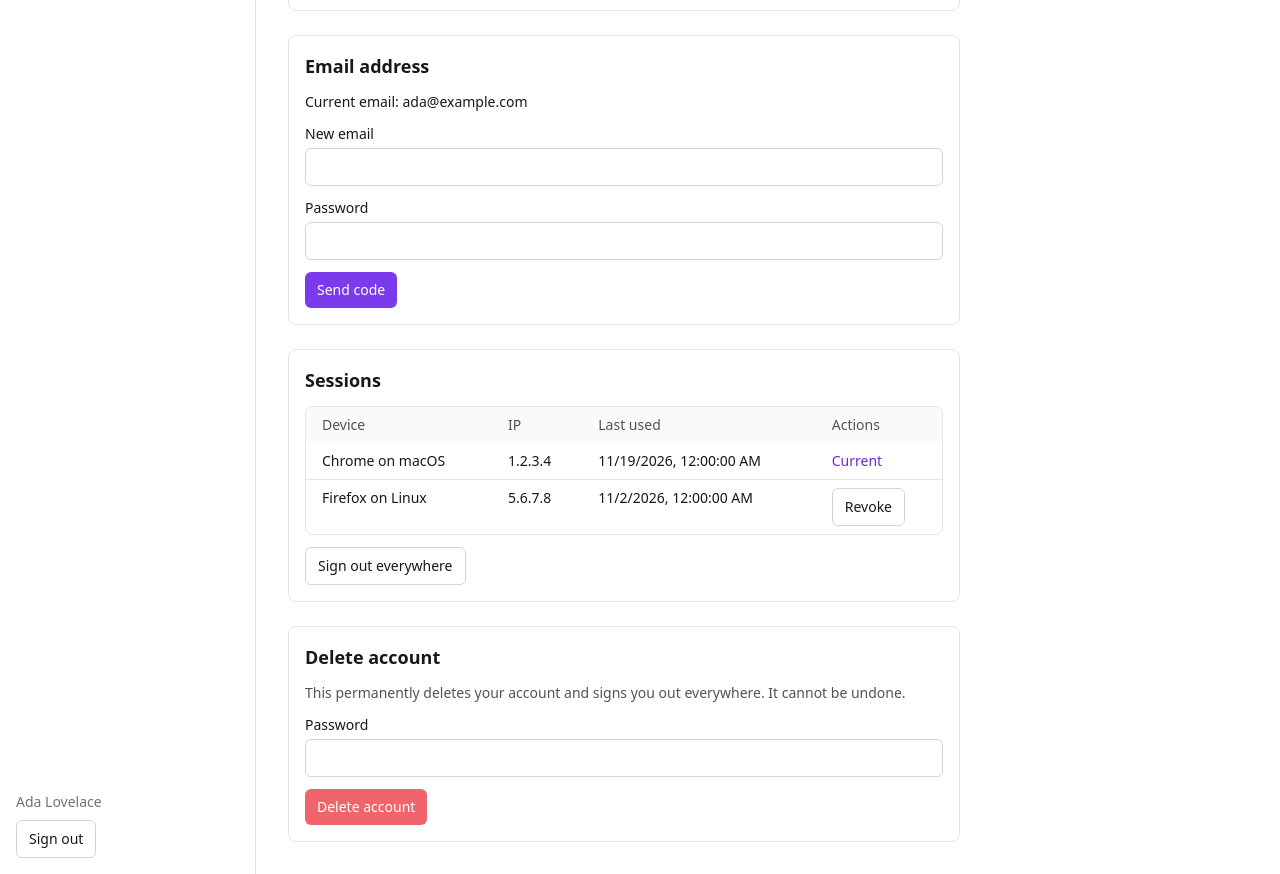
account › revoking a session removes it; current session has no revoke button
(page scrolled)
Expected: the text "Chrome on macOS" is shown, [322, 451, 445, 470]
Expected: the text "Current" is shown, [832, 451, 882, 470]
Click the button with aria-label "Revoke Firefox on Linux" at point(868, 507), box [832, 488, 905, 526]
(page scrolled)
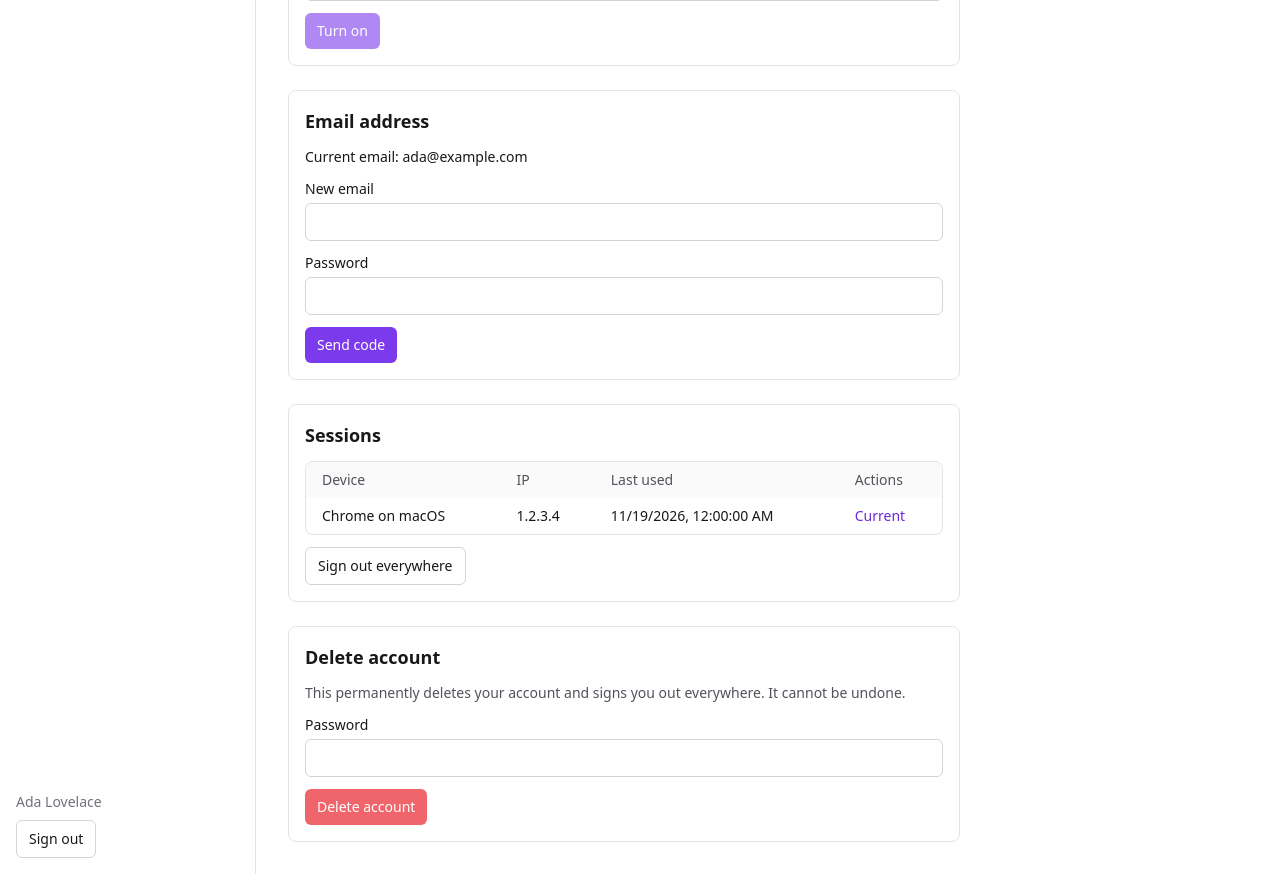
Expected: the text "Firefox on Linux" is gone
